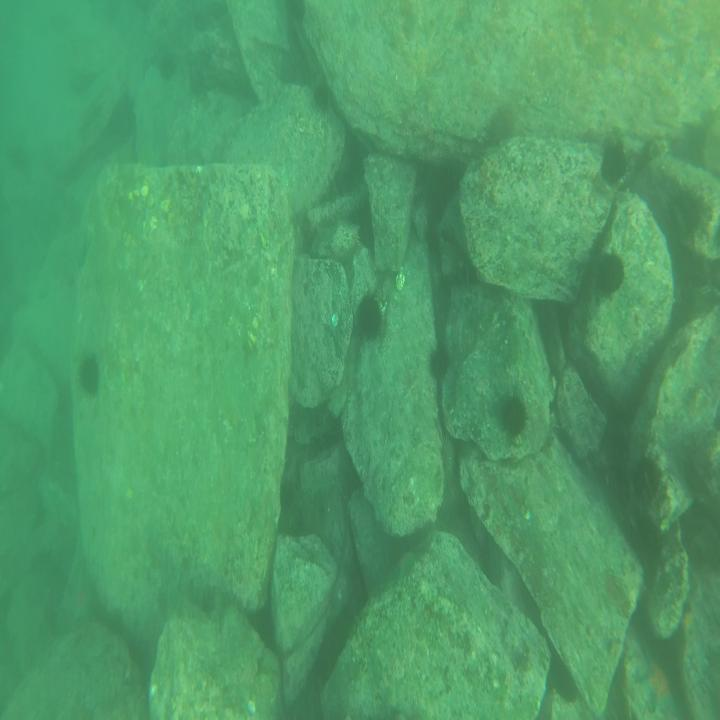echinus: (484, 105, 516, 155), (357, 288, 387, 341), (634, 453, 665, 503), (599, 248, 628, 301), (601, 140, 628, 186), (501, 393, 529, 437), (76, 349, 98, 398), (428, 343, 451, 375), (313, 81, 331, 113), (159, 51, 175, 78)
starfish: (636, 654, 678, 714), (679, 608, 699, 639)
